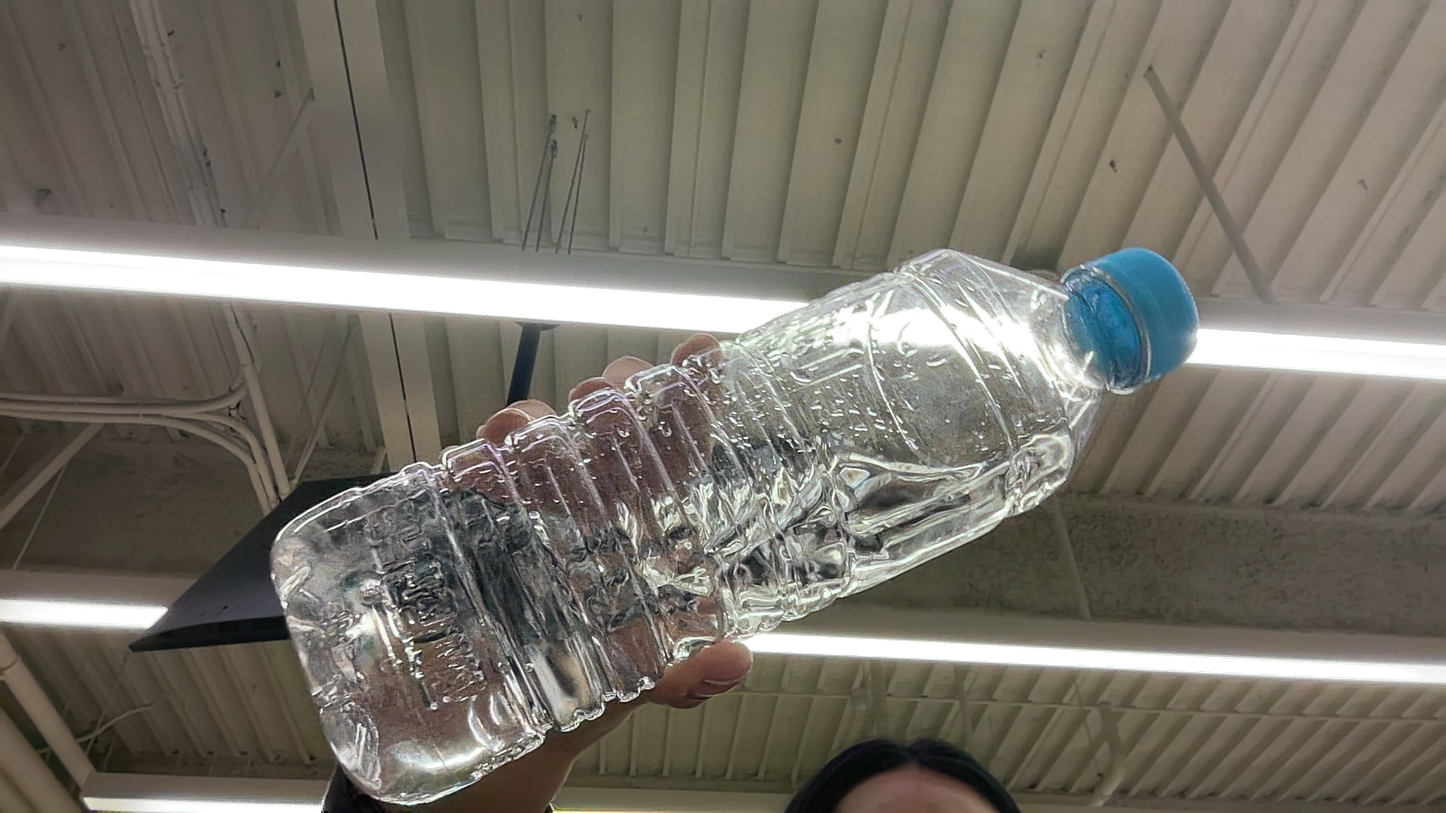Plastic: (3, 403, 275, 611)
